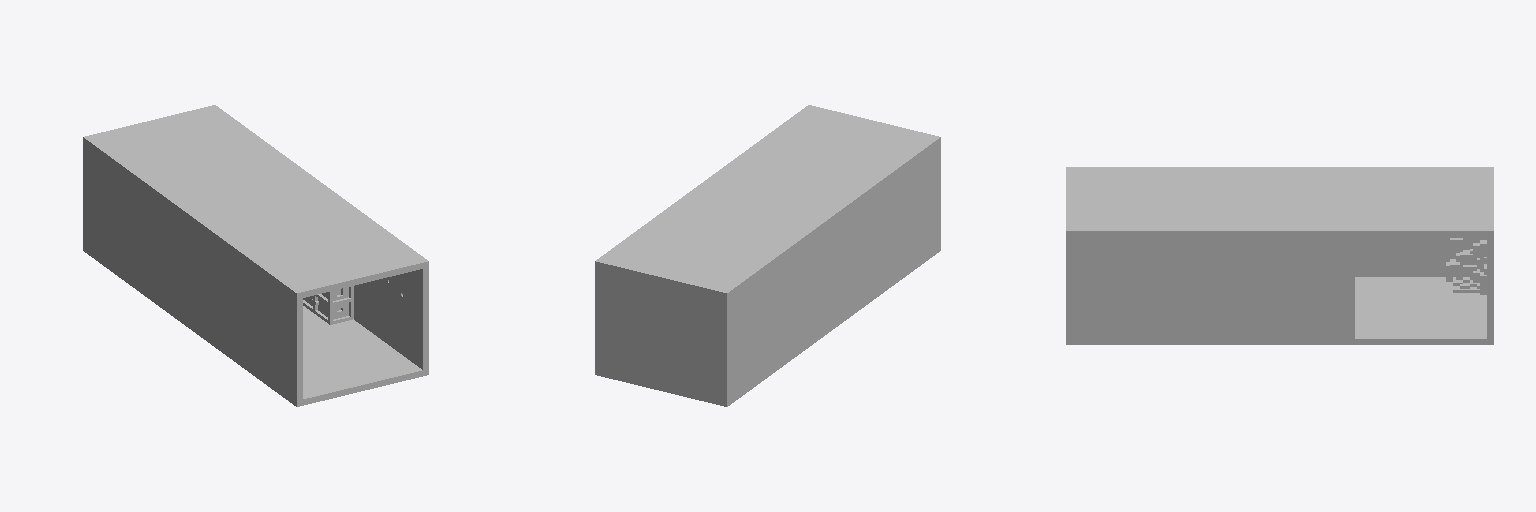
Rendered from Lvl2 Left.obj.
3 views of the same model, side by side, from view 1: azimuth 30°, elevation 25°; view 2: azimuth 150°, elevation 25°; view 3: azimuth 270°, elevation 25° (orthographic).
Parts seen in each view (by area): view 1: Lvl2 Left; view 2: Lvl2 Left; view 3: Lvl2 Left.
Part boxes in pixels (x1,y1,x2,y2): Lvl2 Left: (83,105,428,406); Lvl2 Left: (595,105,940,406); Lvl2 Left: (1066,167,1493,344).
Bounding box in the file's own units: 45 × 37 × 126.